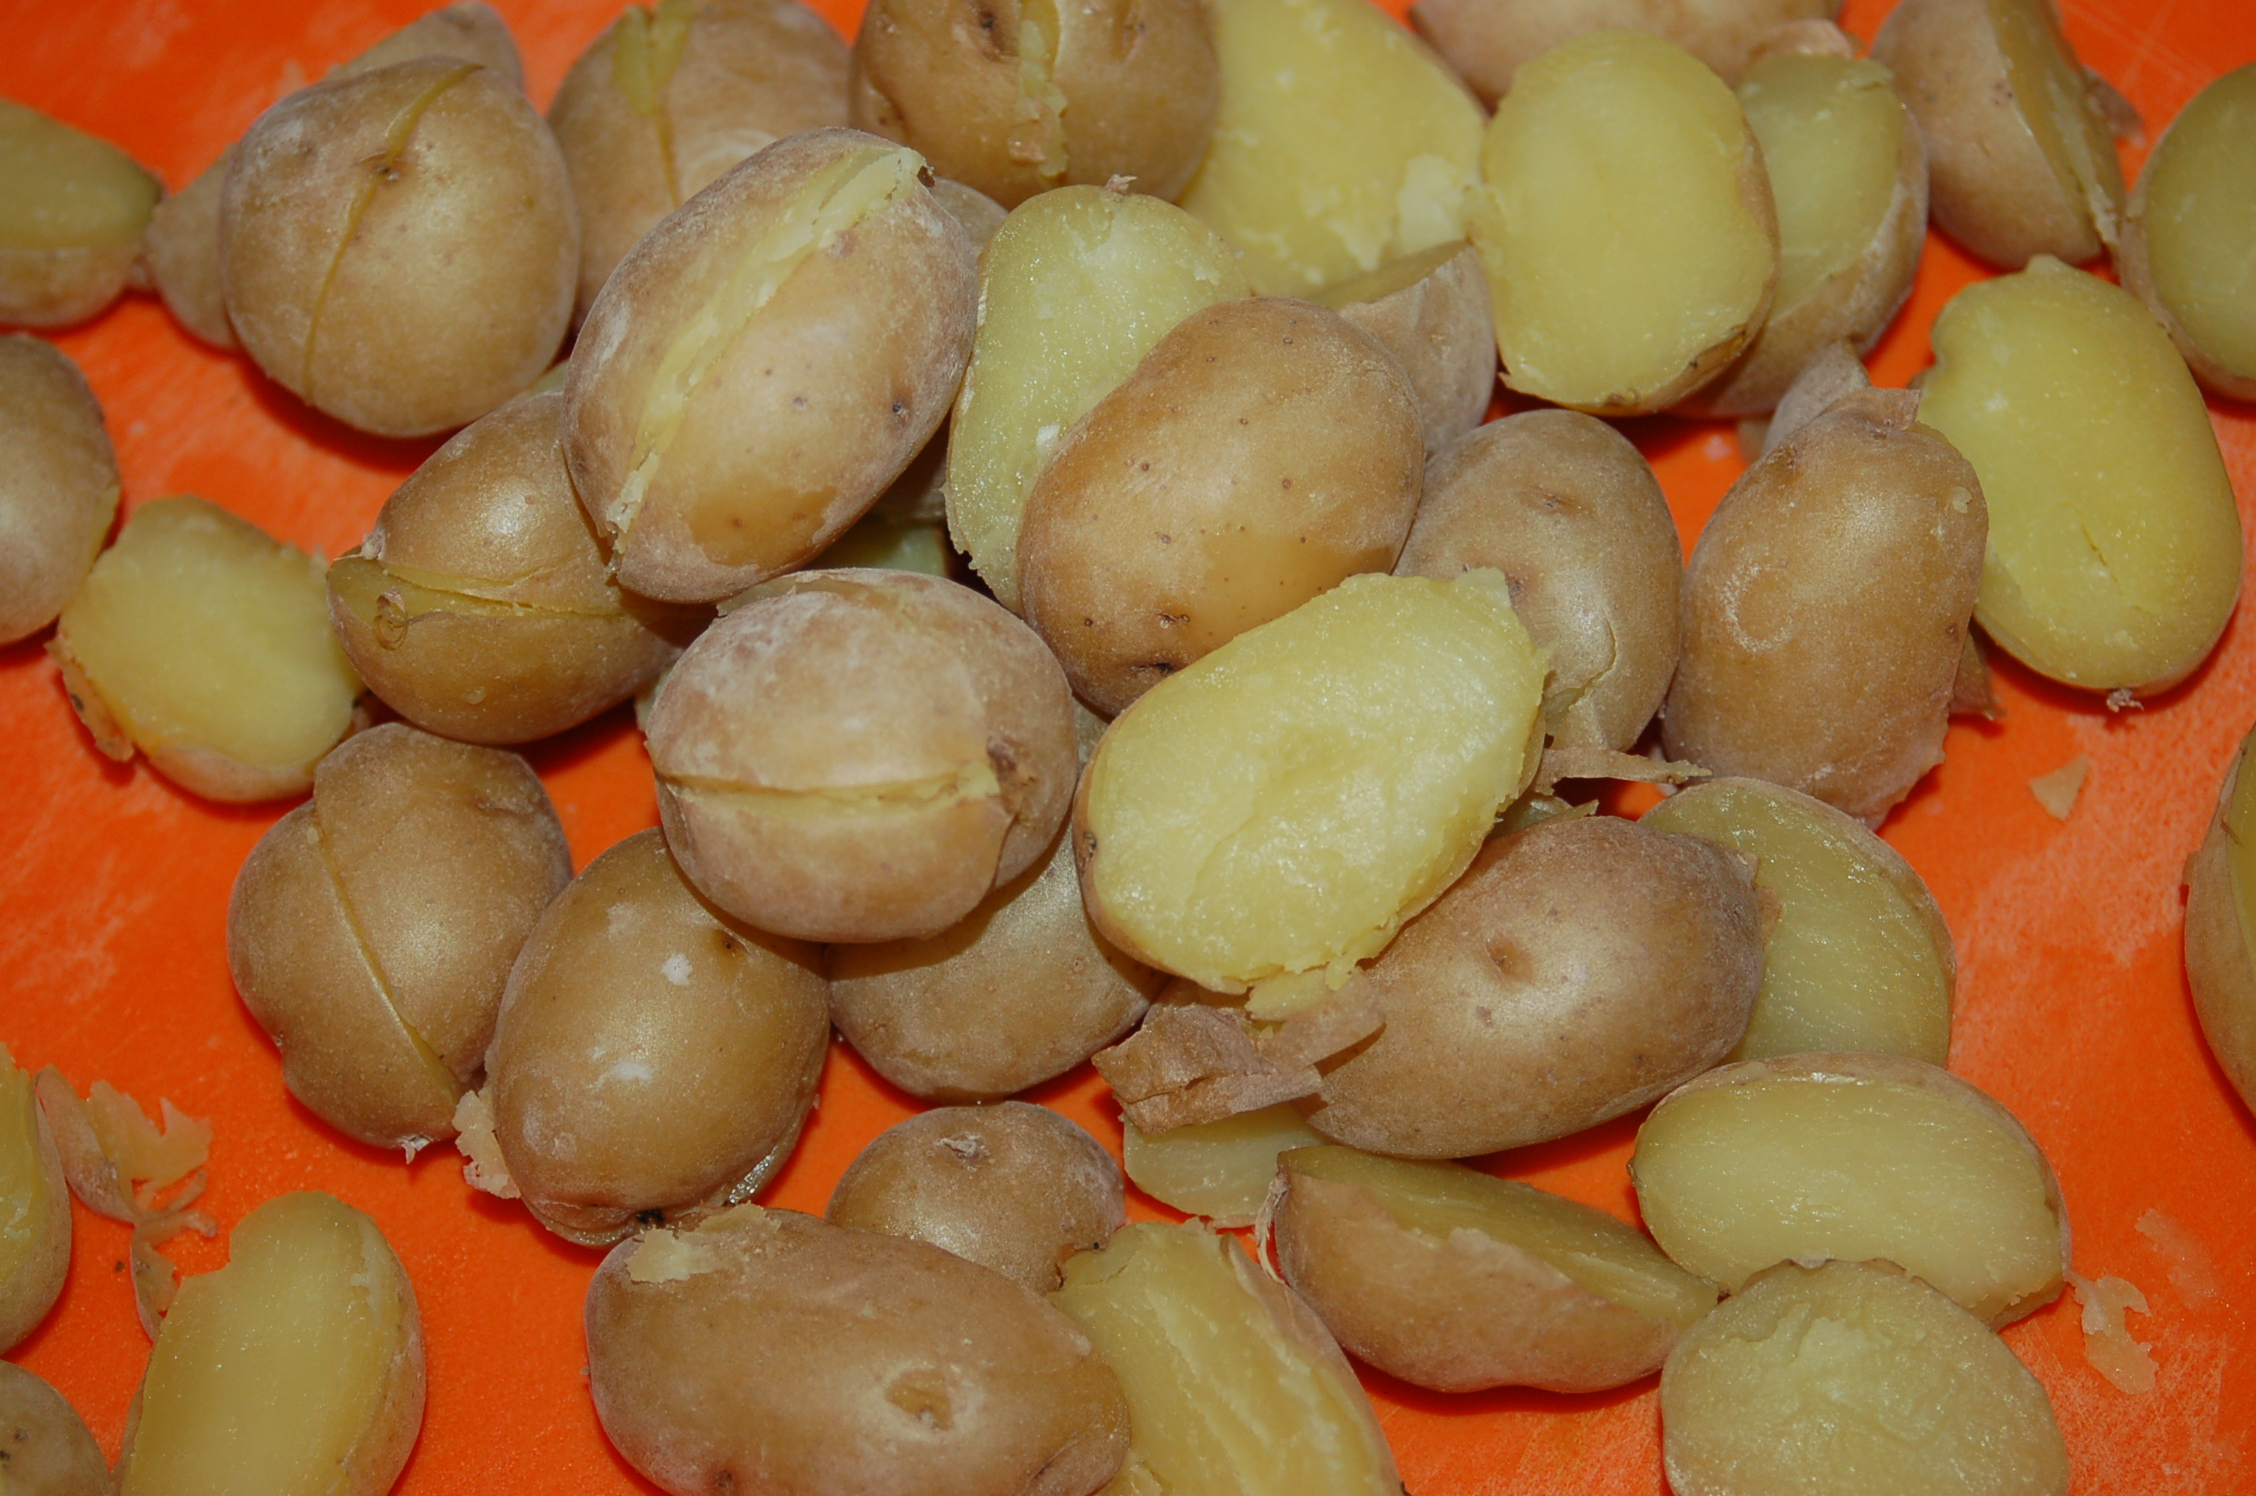boiled potatoes: (199, 114, 2039, 1454)
